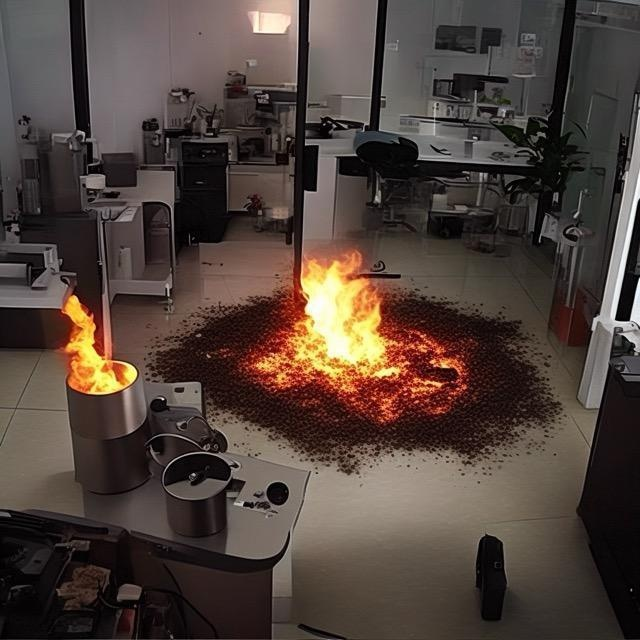fire: (260, 244, 457, 433), (43, 271, 146, 423)
